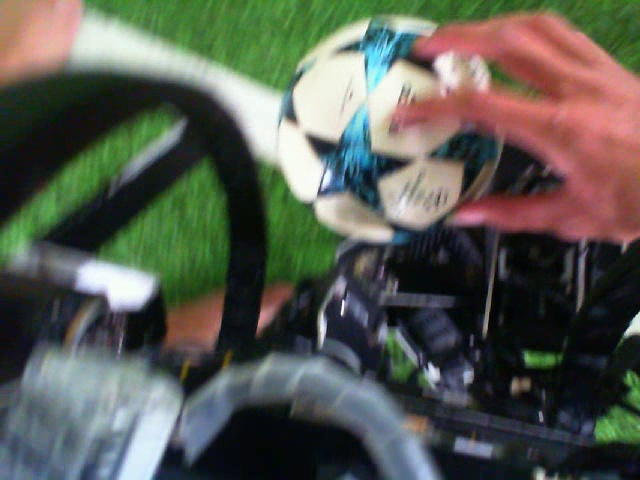ball: (275, 9, 506, 248)
